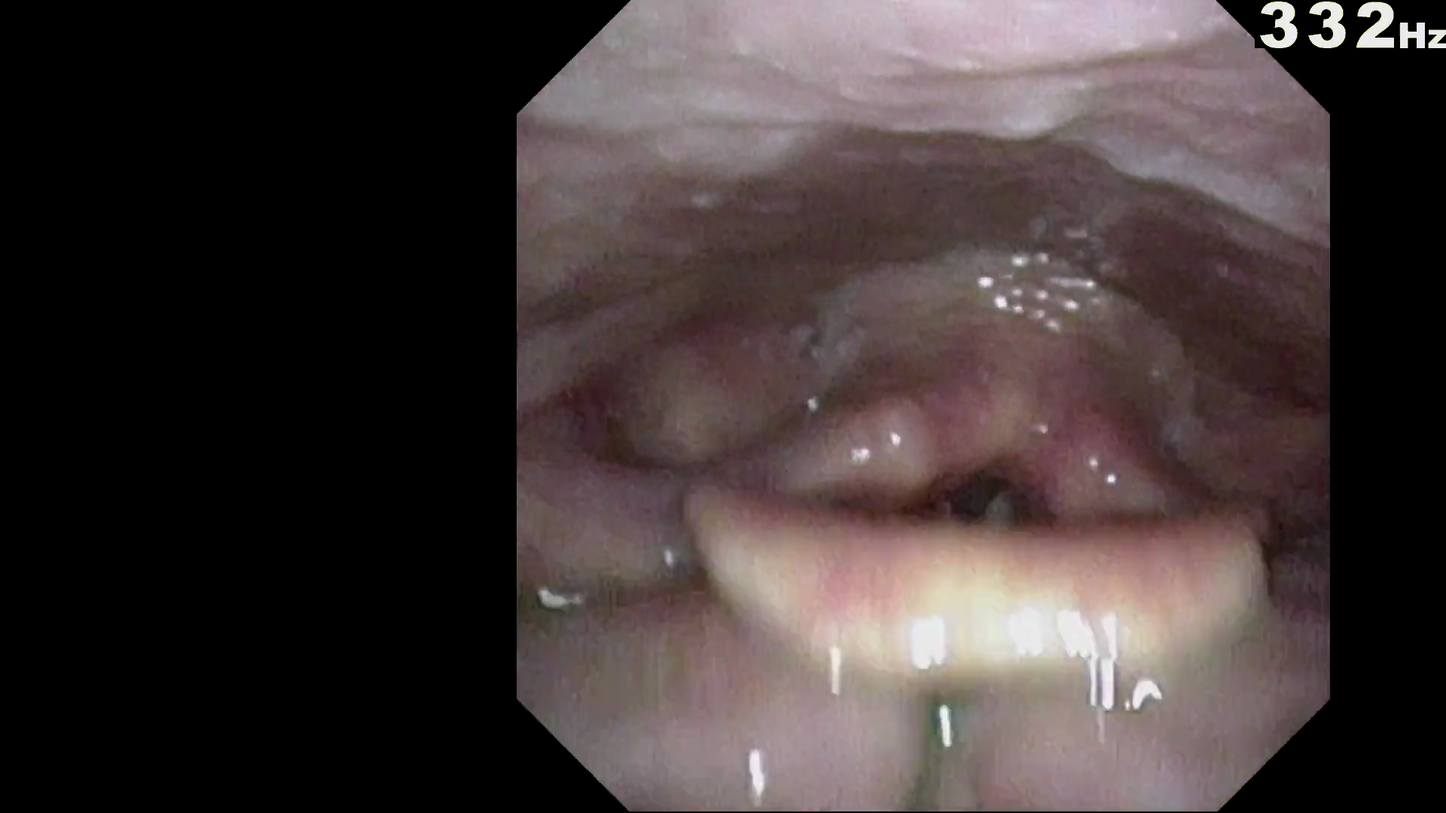epiglottis: (677, 486, 1278, 699)
trachea: (911, 433, 1050, 573)
